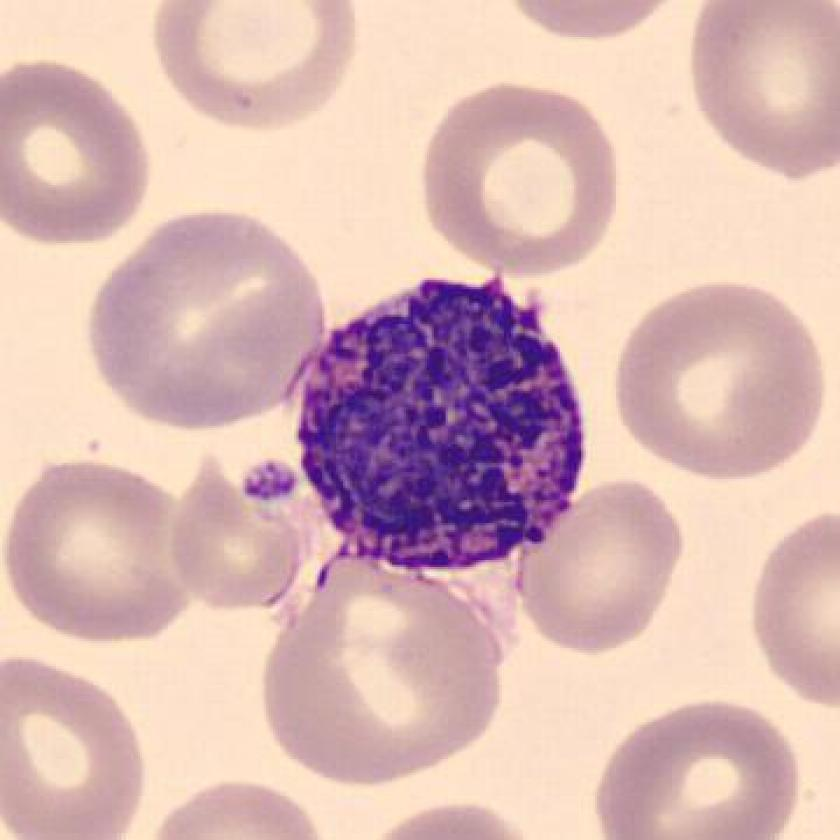basophil: (295, 265, 594, 584)
